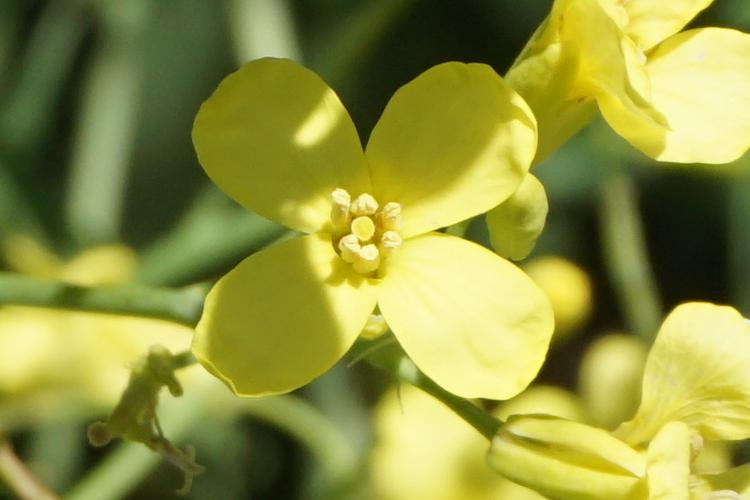yellow: (188, 59, 554, 403), (532, 10, 750, 172), (564, 324, 747, 500)
